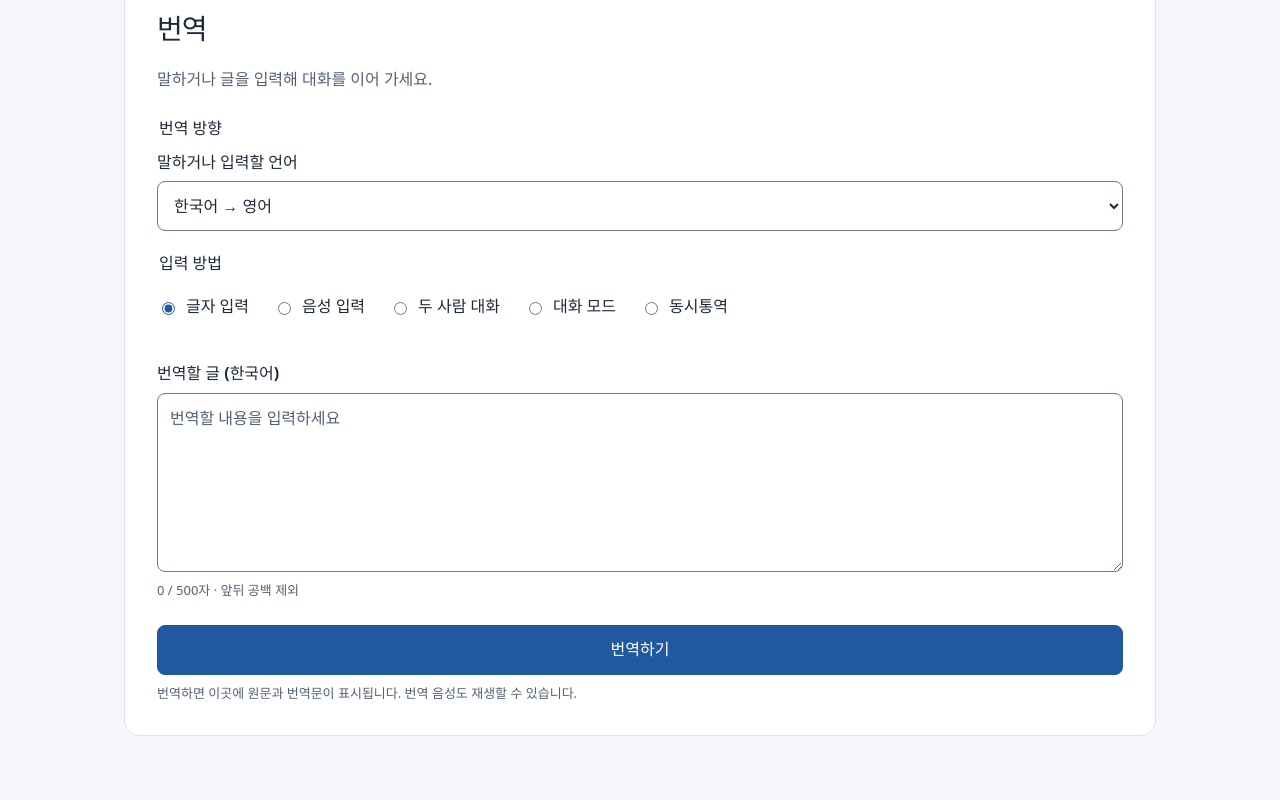
defaults to the real API in development for mock=false and displays a model-free server 503 safely
(page scrolled)
Expected: the heading "번역" is shown, [157,9,206,47]
Type "안녕하세요" into the text box labelled "번역할 글 (한국어)" at (640, 482), box [157,393,1123,572]
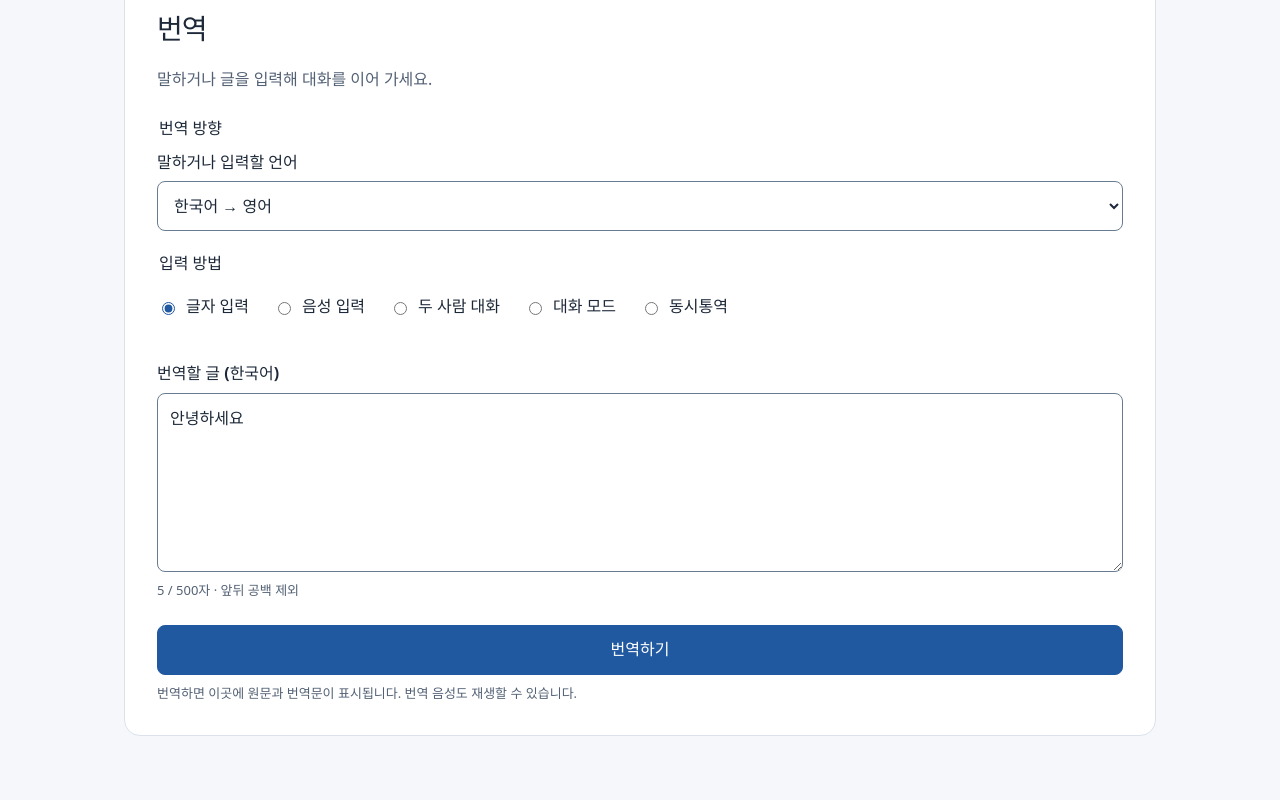
Click the button "번역하기" at (640, 650), box [157,625,1123,674]
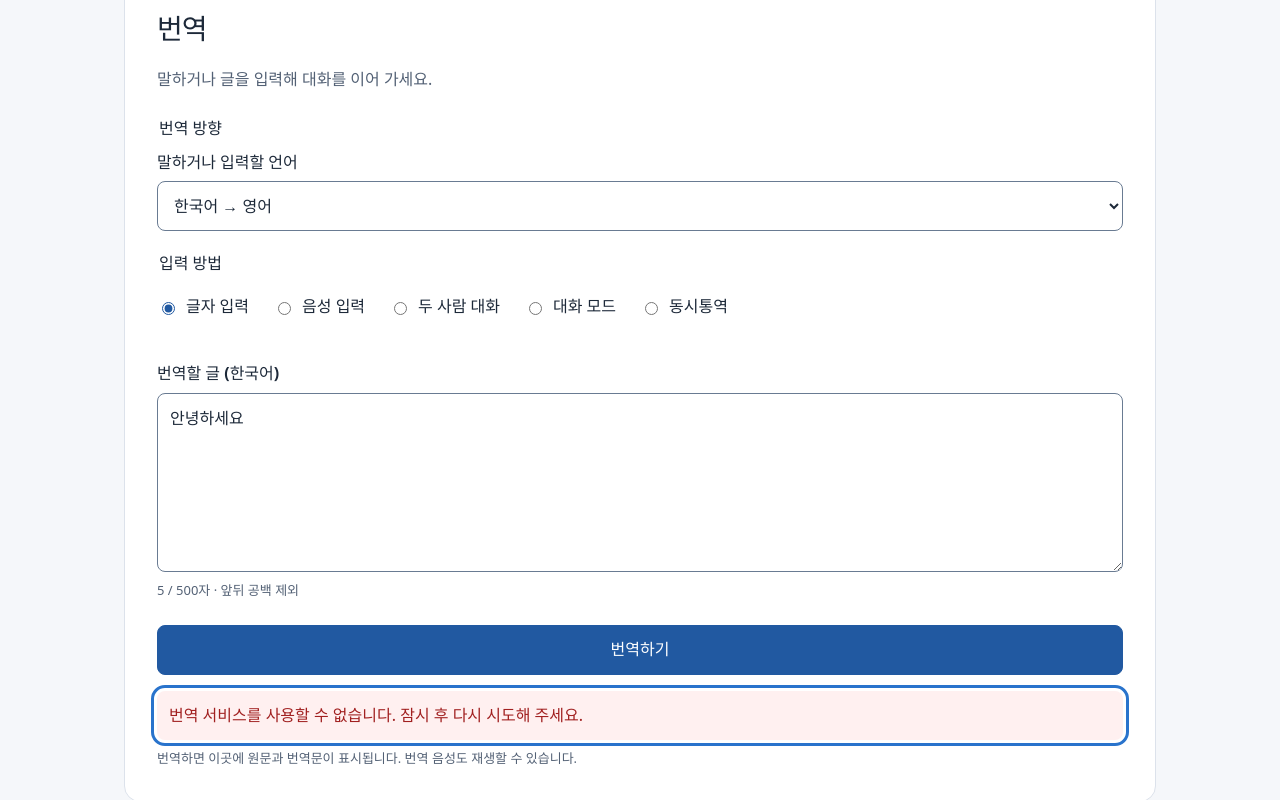
Expected: the message reads "번역 서비스를 사용할 수 없습니다. 잠시 후 다시 시도해 주세요.", [169,704,583,726]
